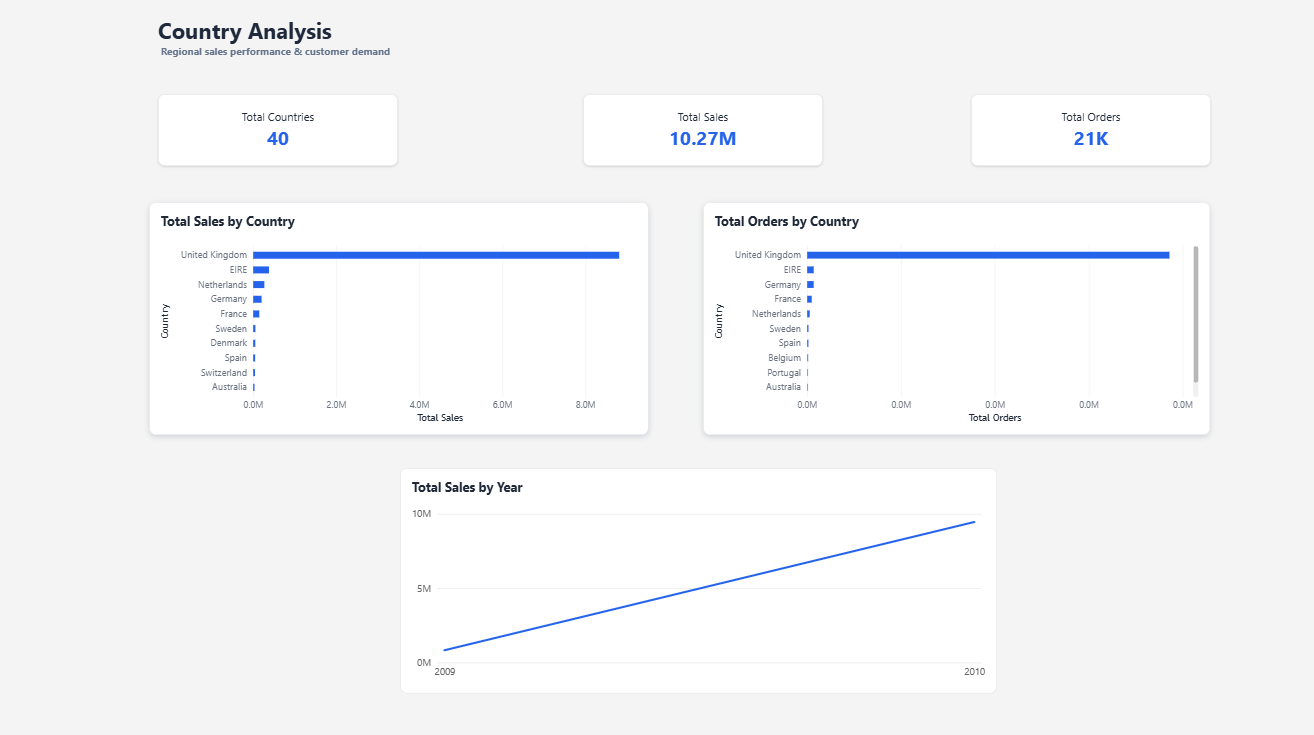

The dashboard page shown, as its layout file describes it:
{"tool":"powerbi","page":{"name":"Country Analysis","canvas":[1920,1080],"ordinal":3},"visuals":[{"type":"cardVisual","fields":{"Data":["online_retail_cleaned.Total Countries"]},"box":[231.4,137,350,105],"z":0},{"type":"cardVisual","fields":{"Data":["online_retail_cleaned.Total Sales"]},"box":[852.7,137,350,105],"z":1000},{"type":"cardVisual","fields":{"Data":["online_retail_cleaned.Total Orders"]},"box":[1417.5,137,350,105],"z":2000},{"type":"clusteredBarChart","fields":{"Category":["online_retail_cleaned.Country"],"Y":["online_retail_cleaned.Total Sales"]},"box":[219.3,295.4,729.3,339.5],"z":3000},{"type":"clusteredBarChart","fields":{"Category":["online_retail_cleaned.Country"],"Y":["online_retail_cleaned.Total Orders"]},"box":[1027.8,295.4,740,339.5],"z":4000},{"type":"lineChart","fields":{"Category":["online_retail_cleaned.InvoiceDate.Variation.Date Hierarchy.Year","online_retail_cleaned.InvoiceDate.Variation.Date Hierarchy.Month"],"Y":["online_retail_cleaned.Total Sales"]},"box":[584.7,682.1,870.9,328.9],"z":5000},{"type":"textbox","box":[231.4,21.3,438.5,56.3],"z":6000},{"type":"textbox","box":[231.4,63.9,408.1,39.6],"z":7000}]}

Visuals, with their boxes in screenshot pixels (x1, y1, x2, y2), scaled from the page's 1920x1080 canvas onto the 1314x735 screenshot:
cardVisual - online_retail_cleaned.Total Countries: <bbox>158, 93, 398, 165</bbox>
cardVisual - online_retail_cleaned.Total Sales: <bbox>584, 93, 823, 165</bbox>
cardVisual - online_retail_cleaned.Total Orders: <bbox>970, 93, 1210, 165</bbox>
clusteredBarChart - online_retail_cleaned.Country x online_retail_cleaned.Total Sales: <bbox>150, 201, 649, 432</bbox>
clusteredBarChart - online_retail_cleaned.Country x online_retail_cleaned.Total Orders: <bbox>703, 201, 1210, 432</bbox>
lineChart - online_retail_cleaned.InvoiceDate.Variation.Date Hierarchy.Year x online_retail_cleaned.InvoiceDate.Variation.Date Hierarchy.Month: <bbox>400, 464, 996, 688</bbox>
textbox: <bbox>158, 14, 458, 53</bbox>
textbox: <bbox>158, 43, 438, 70</bbox>
